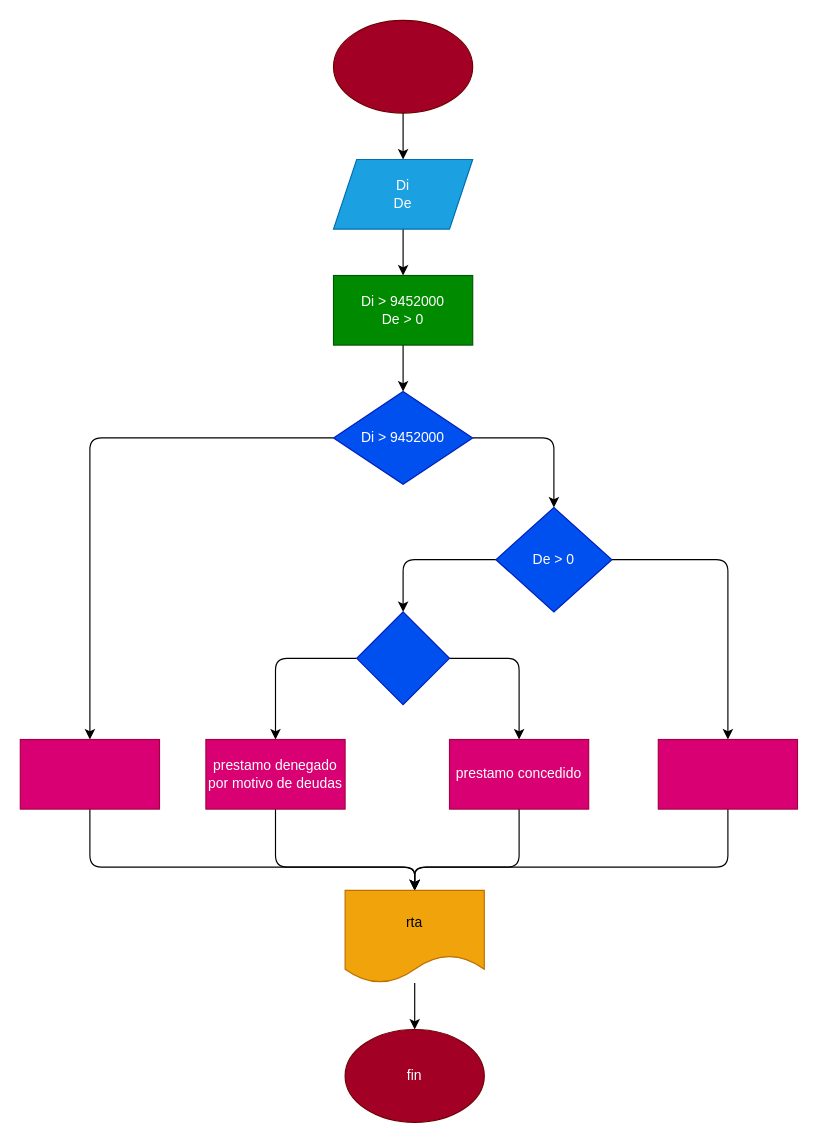
This 818x1143 diagram has some shape labels left out. Here are the shapes that lost their labels. From the top down, the centre of each, then its label:
the point at 402,66: inicio
the point at 402,658: De == 0
the point at 89,773: prestamo denegado por motivo de insuficiencia de ingresos
the point at 727,773: prestamo denegado por motivo de duedas
